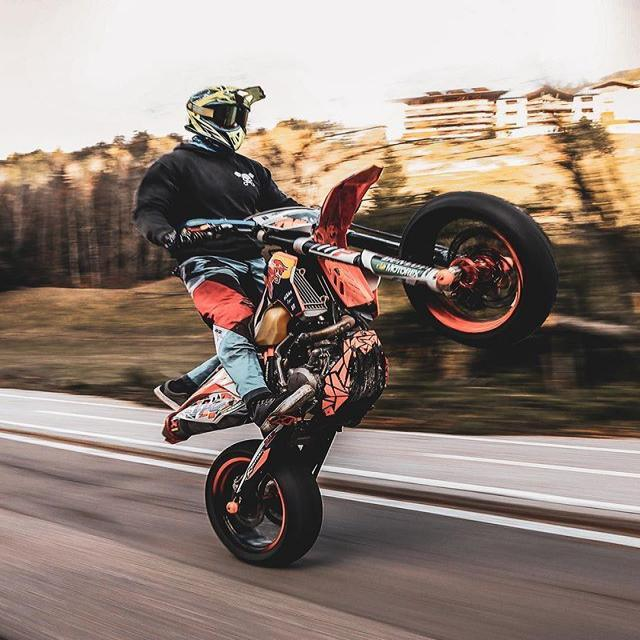Wheeling: (136, 91, 588, 576)
